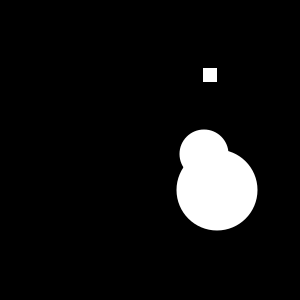circle: (203, 68, 217, 82)
rectangle: (176, 150, 258, 230), (180, 130, 228, 178)
